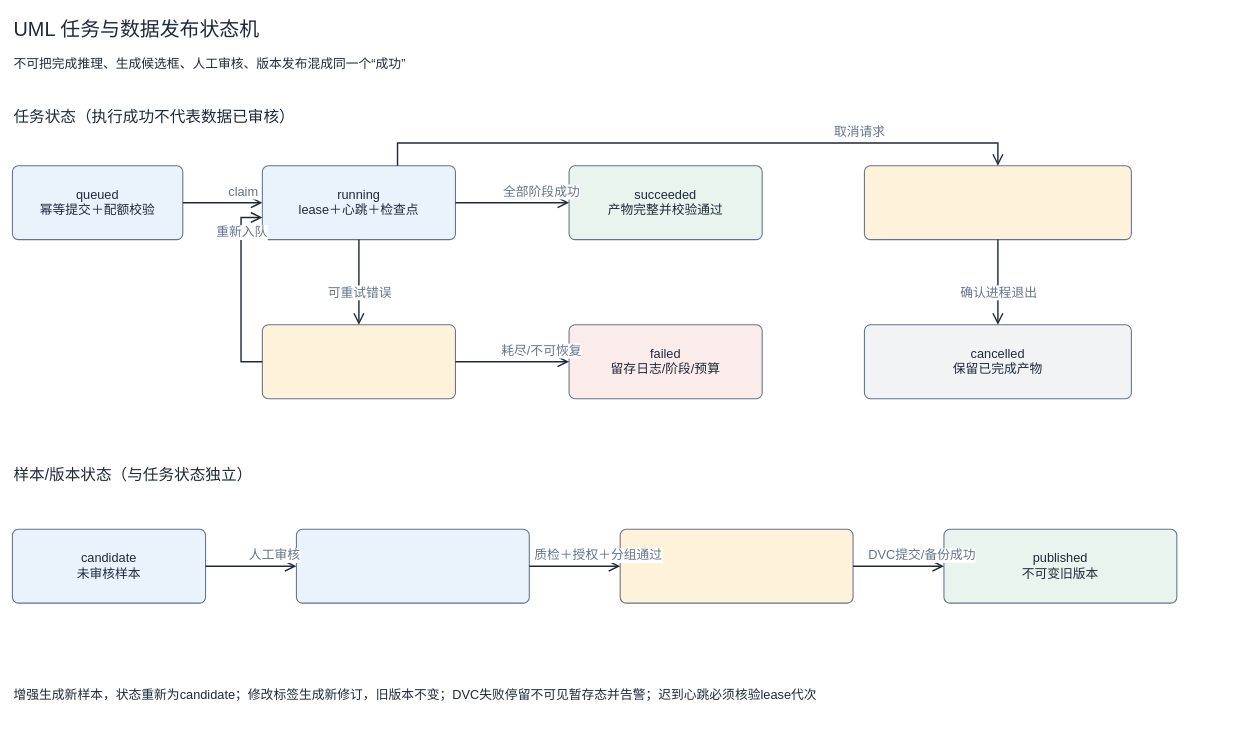
This 1246x751 diagram has some shape labels left out. Each missing label, with the centre of its shape:
"cancel_requested 停止派发＋终止子进程" belongs at point (998, 202).
"dvc_pending 冻结清单＋DVC备份核验" belongs at point (736, 565).
"retry_wait 有限次数＋指数退避" belongs at point (358, 361).
"reviewed 绑定图像SHA和标签修订" belongs at point (413, 565).
